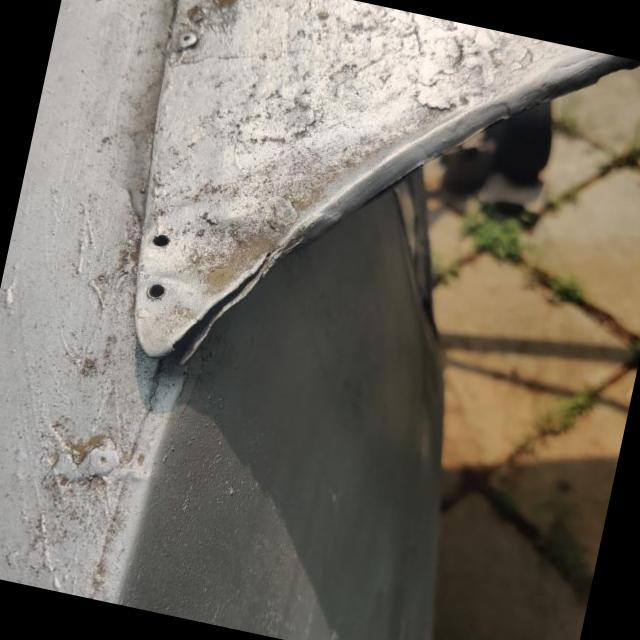Crack: (143, 261, 287, 371)
